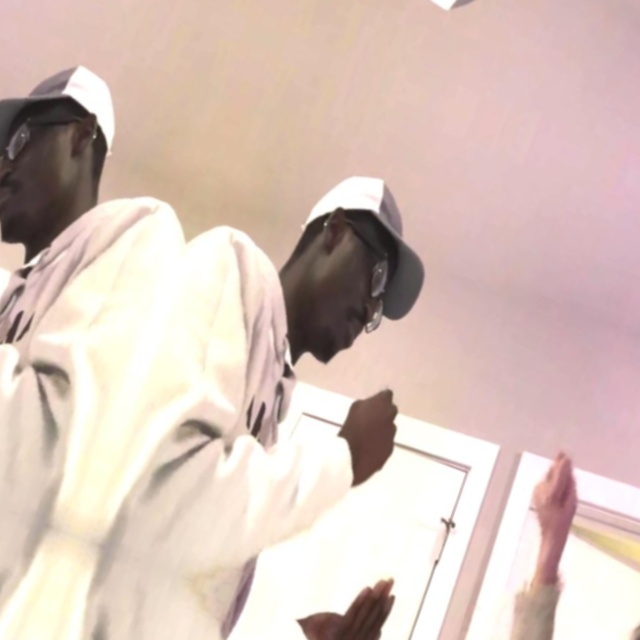Rock: (320, 377, 413, 493), (520, 449, 595, 549)
